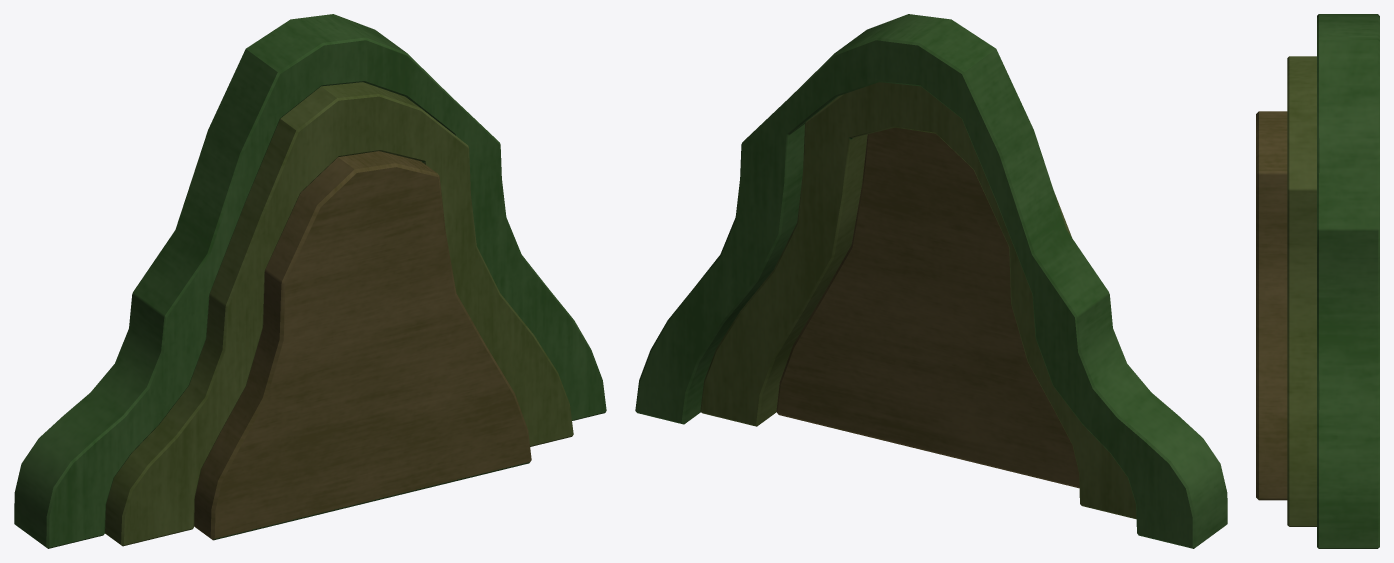
The model's file is mountain2.fbx.
3 views of the same model, side by side, from view 1: azimuth 30°, elevation 25°; view 2: azimuth 150°, elevation 25°; view 3: azimuth 270°, elevation 25° (orthographic). The views are drawn at different scales.
Visible parts, largest first — view 1: mountain2; view 2: mountain2; view 3: mountain2.
Boxes of the visible parts, <box> form: mountain2: <box>14,14,606,548</box>; mountain2: <box>635,14,1227,548</box>; mountain2: <box>1256,14,1379,548</box>.
Size of the model in its own units: 3.87 by 2.9 by 0.8043.
